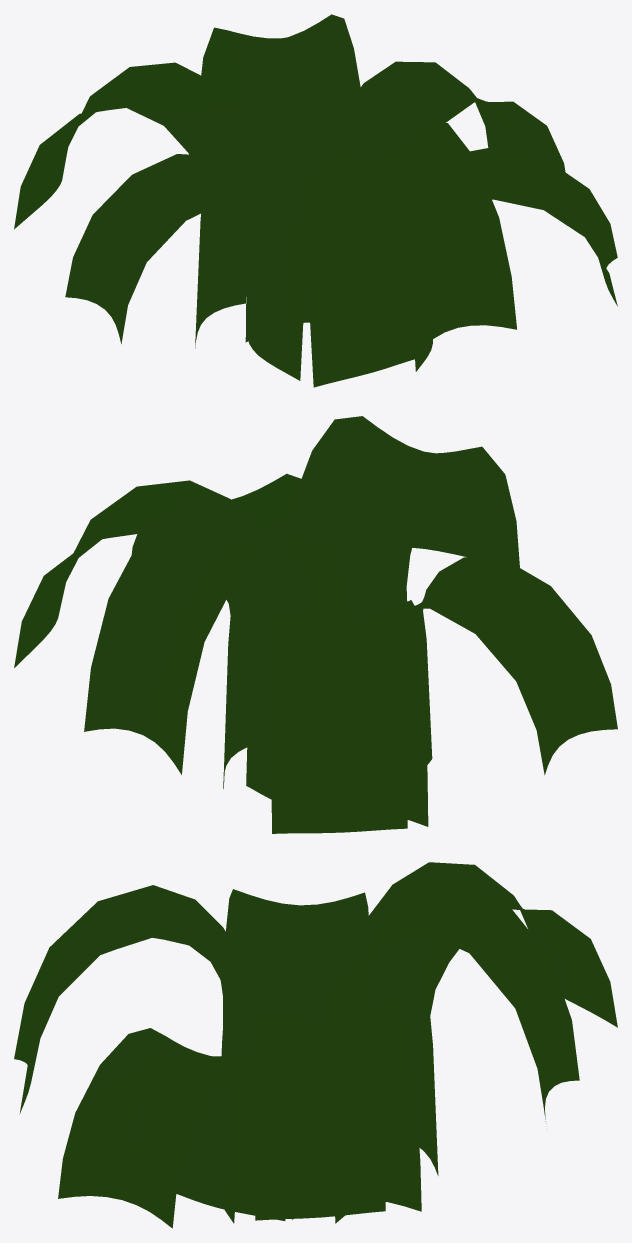
File: S_Hosta-Bush_02.fbx
The picture shows the model from 3 angles, top to bottom: view 1: azimuth 30°, elevation 25°; view 2: azimuth 150°, elevation 25°; view 3: azimuth 270°, elevation 25°; orthographic projection. The views are drawn at different scales.
Visible parts, largest first — view 1: S_Hosta-Bush_02; view 2: S_Hosta-Bush_02; view 3: S_Hosta-Bush_02.
Part boxes in pixels (<box>): S_Hosta-Bush_02: <box>14,14,617,387</box>; S_Hosta-Bush_02: <box>14,416,617,833</box>; S_Hosta-Bush_02: <box>14,862,617,1228</box>.
Bounding box in the file's own units: 40.9 × 23.22 × 41.5.
